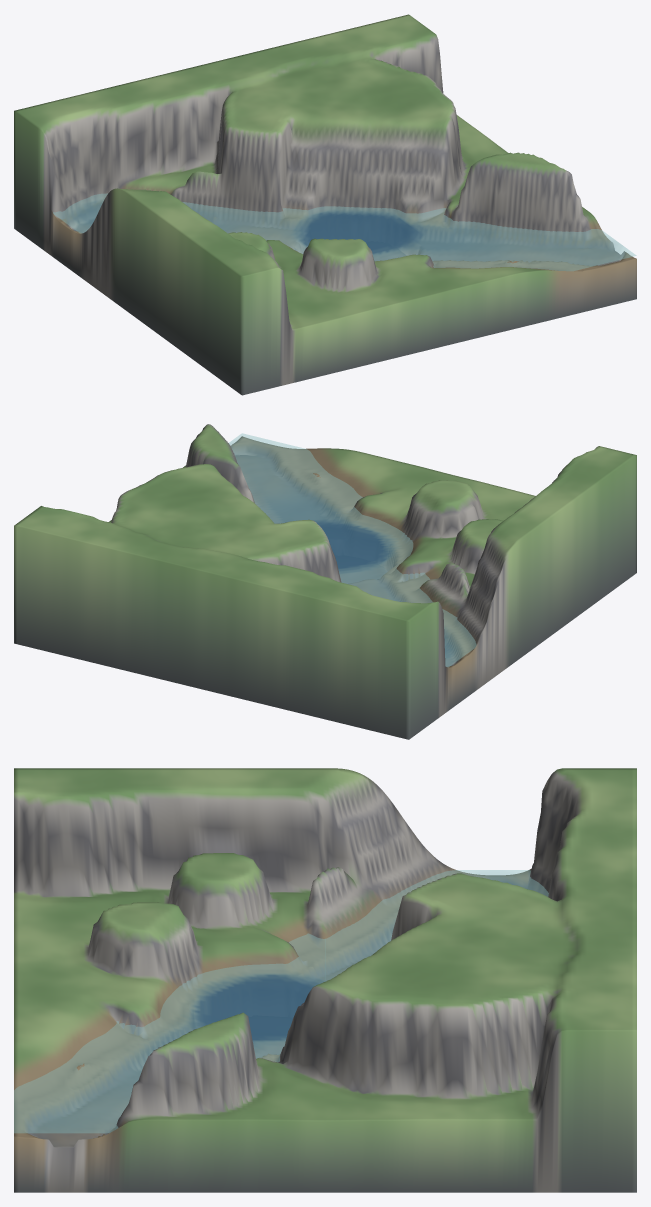
The model's file is terrain_style.glb.
3 views of the same model, one above another, from view 1: azimuth 30°, elevation 25°; view 2: azimuth 150°, elevation 25°; view 3: azimuth 270°, elevation 25° (orthographic). The views are drawn at different scales.
Visible parts, largest first — view 1: terrain_style, terrain_water; view 2: terrain_style, terrain_water; view 3: terrain_style, terrain_water.
Boxes of the visible parts, x1,y1,x2,y2 form: terrain_style: [14, 14, 636, 395]; terrain_water: [53, 193, 636, 270]; terrain_style: [14, 424, 636, 739]; terrain_water: [229, 433, 476, 667]; terrain_style: [14, 768, 636, 1192]; terrain_water: [14, 870, 548, 1133].
Size of the model in its own units: 20 by 5.7 by 20.
